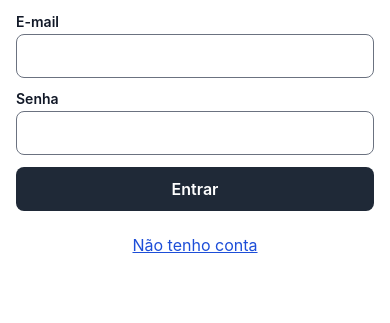
it: C04: reason invalid-credentials shows the same message, without naming a field
Type "ana@exemplo.com" into the field with test id "login.email" at (195, 56), box [16,34,374,78]
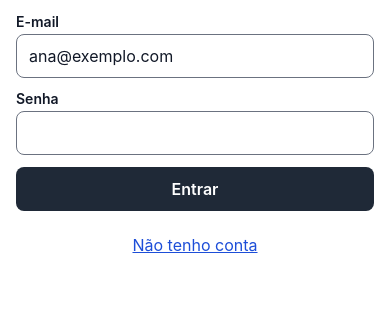
Type "errada" into the password field with test id "login.password" at (195, 133), box [16,111,374,155]
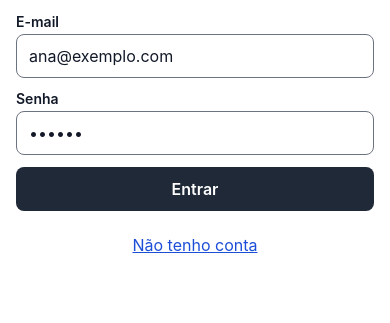
Click the button with test id "login.submit" at (195, 189), box [16,167,374,211]
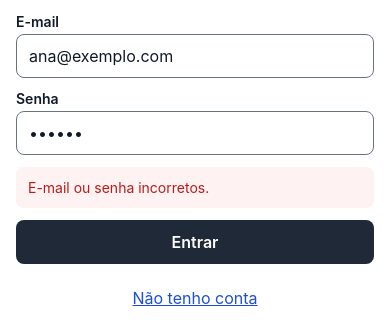
Check: the message reads "E-mail ou senha incorretos.", box [28,179,209,196]
Check: the message "E-mail ou senha incorretos." is shown, box [16,167,374,208]
